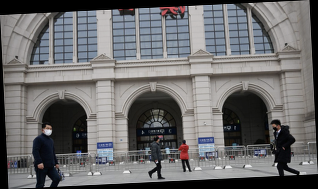with_mask: (42, 125, 53, 136), (270, 124, 278, 132)
